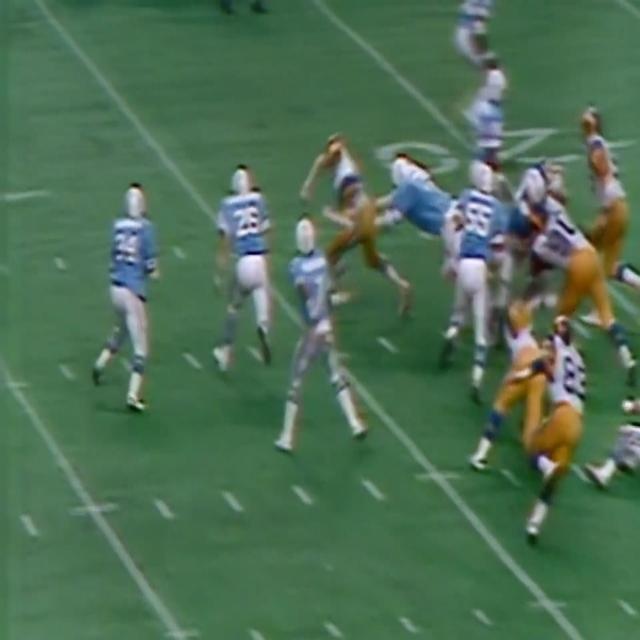players: (302, 124, 410, 319), (283, 203, 352, 459), (534, 202, 632, 374), (515, 326, 585, 555), (96, 190, 166, 416), (443, 174, 502, 392), (220, 173, 277, 378), (581, 93, 636, 288), (582, 381, 640, 495)
